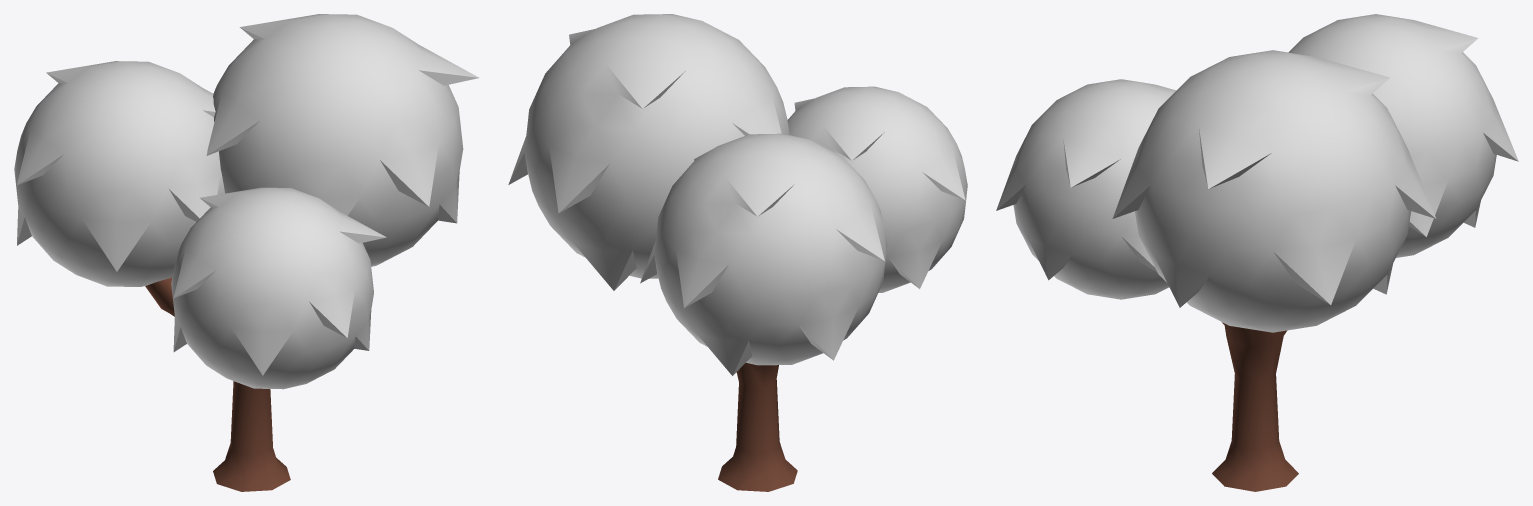
Rendered from tree1.fbx.
3 renders of one model, left to right at view 1: azimuth 30°, elevation 25°; view 2: azimuth 150°, elevation 25°; view 3: azimuth 270°, elevation 25°, orthographic. The views are drawn at different scales.
Visible parts, largest first — view 1: Icosphere.005, Cylinder.002; view 2: Icosphere.005, Cylinder.002; view 3: Icosphere.005, Cylinder.002.
Part boxes in pixels (box(x1,y1,x2,y2)): Icosphere.005: box(14, 14, 479, 389); Cylinder.002: box(145, 277, 290, 491); Icosphere.005: box(508, 14, 967, 375); Cylinder.002: box(718, 363, 797, 491); Icosphere.005: box(996, 14, 1518, 332); Cylinder.002: box(1212, 322, 1298, 491).
Bounding box in the file's own units: 446 × 464 × 481.
